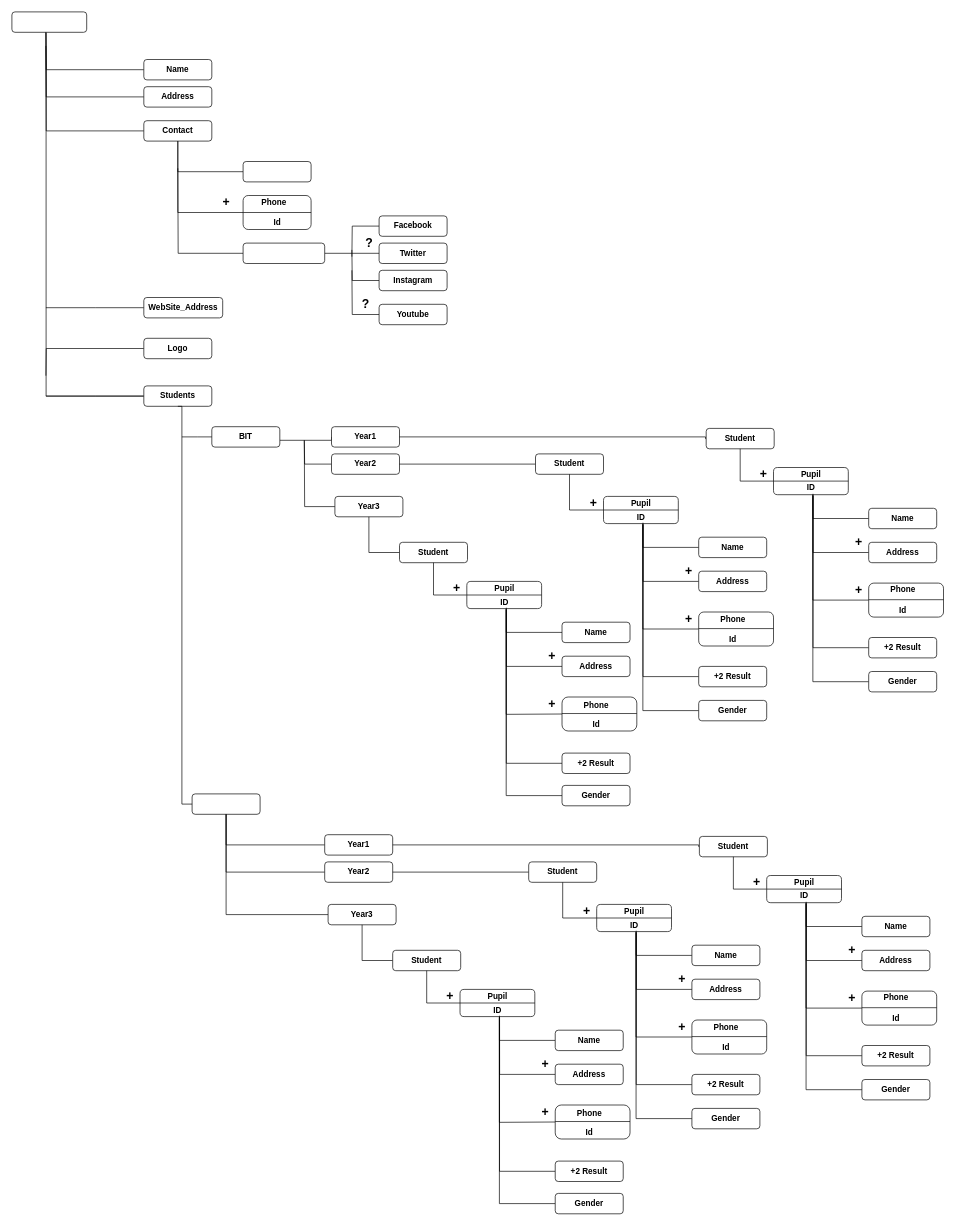
Some shapes in this 956 by 1226 pixel diagram are drawn without their labels. Each missing label, with the centre of its shape:
BBA: pixel 225 803
College: pixel 49 21
Social Platforms: pixel 283 253
Telephone: pixel 276 171
